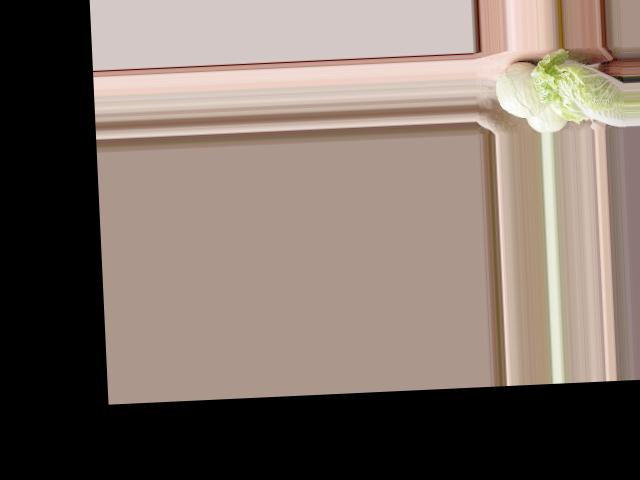lettuce: (530, 44, 624, 128)
